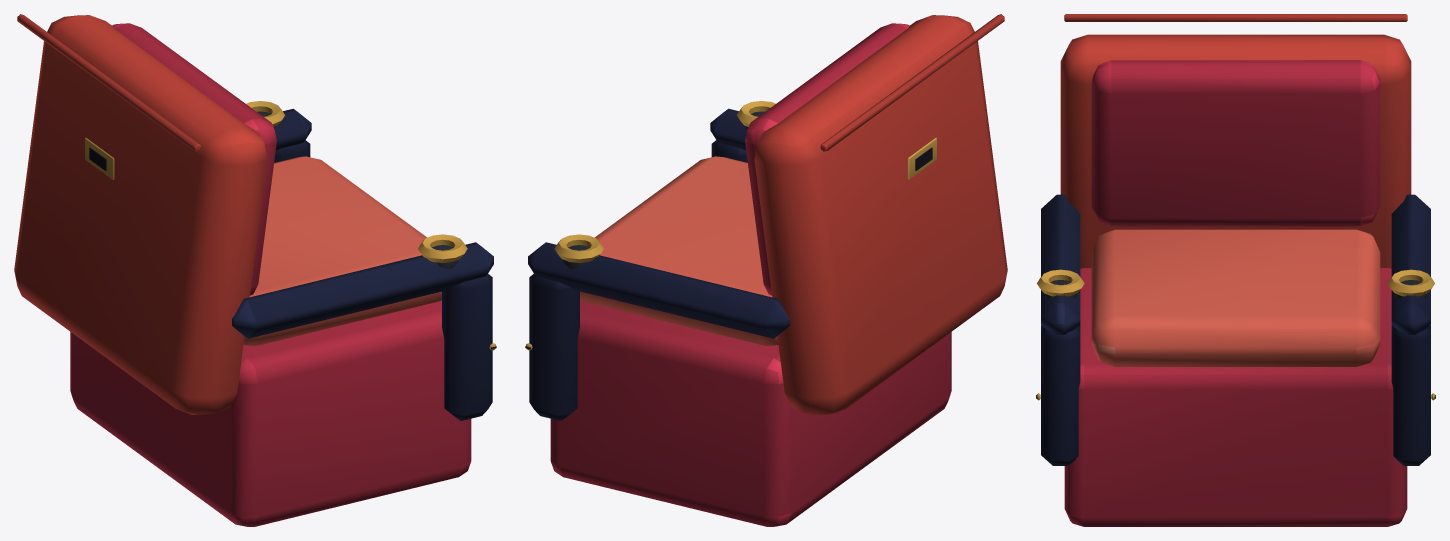
Rendered from SM_Projection_Seat.fbx.
3 renders of one model, left to right at view 1: azimuth 30°, elevation 25°; view 2: azimuth 150°, elevation 25°; view 3: azimuth 270°, elevation 25°, orthographic. The views are drawn at different scales.
Visible parts, largest first — view 1: SM_Projection_Seat; view 2: SM_Projection_Seat; view 3: SM_Projection_Seat.
Boxes of the visible parts, x1,y1,x2,y2 form: SM_Projection_Seat: [14, 14, 496, 526]; SM_Projection_Seat: [525, 14, 1007, 526]; SM_Projection_Seat: [1036, 14, 1435, 526].
Size of the model in its own units: 87.48 by 110 by 103.
